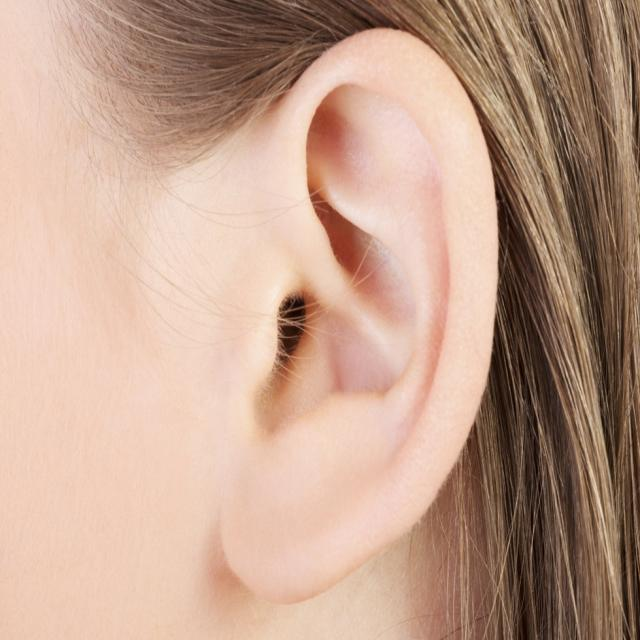earlobe: (220, 412, 342, 607)
wholeear: (220, 26, 500, 606)
